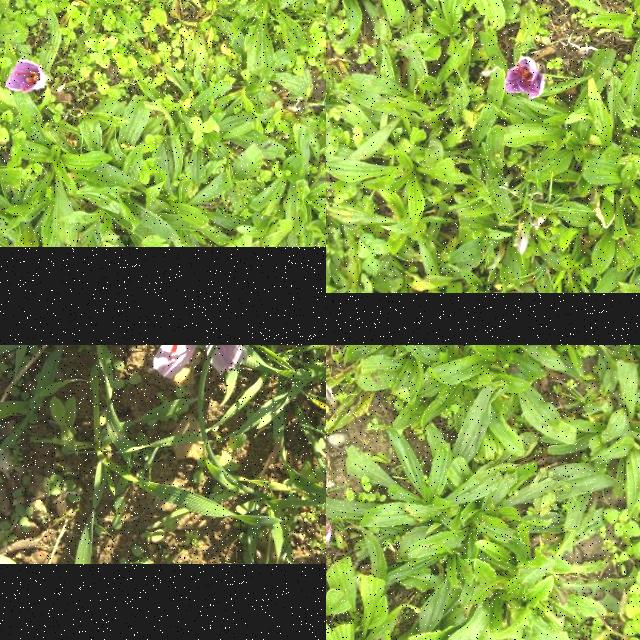flower: (124, 345, 249, 379), (504, 56, 546, 100), (6, 60, 48, 94)
